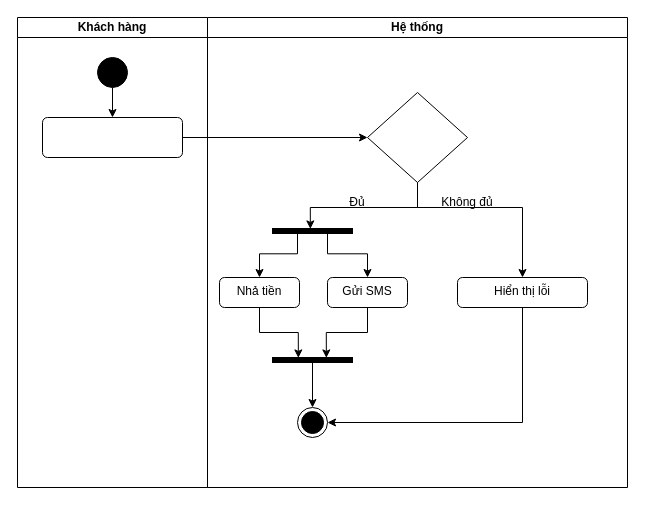
Image size: 645x505. Some labels were removed from this diagram. Here are the shapes that lost their labels. From the top down, the centre of each, then its label:
At pixel 112 137: "Quét mã QR".
At pixel 417 137: "Kiểm tra số dư".
